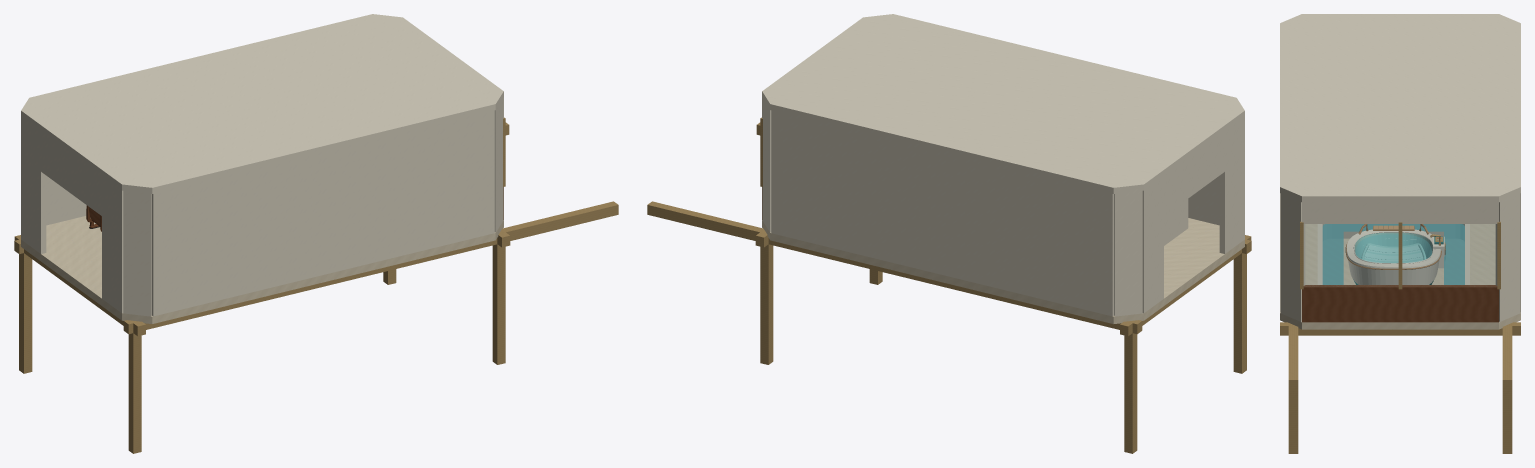
Rendered from D04_PORT_AFT_HOME_900_r001.glb.
The picture shows the model from 3 angles, left to right: view 1: azimuth 30°, elevation 25°; view 2: azimuth 150°, elevation 25°; view 3: azimuth 270°, elevation 25°; orthographic projection. The views are drawn at different scales.
Parts seen in each view (by area): view 1: PA900_D04SH895_Roof, PA900_D04SH895_Shell_7, PA900_D04SH895_Floor, PA900_D04SH895_FloorCross_0, PA900_D04SH895_Shell_0, PA900_D04SH895_EntryWall_1, PA900_D04SH895_EntryWall_0, PA900_D04SH895_EntryHeader, PA900_D04SH895_Pier_5, PA900_D04SH895_Pier_7, PA900_D04SH895_Pier_6, PA900_D04SH895_Shell_3 (+2 smaller); view 2: PA900_D04SH895_Roof, PA900_D04SH895_Shell_3, PA900_D04SH895_Floor, PA900_D04SH895_FloorCross_1, PA900_D04SH895_Shell_2, PA900_D04SH895_EntryWall_0, PA900_D04SH895_EntryWall_1, PA900_D04SH895_EntryHeader, PA900_D04SH895_Pier_6, PA900_D04SH895_Pier_8, PA900_D04SH895_Pier_5, PA900_D04SH895_Shell_4 (+3 smaller); view 3: PA900_D04SH895_Roof, PA900_D04SH895_GardenGlass, PA900_D04SH895_GardenDado, PA900_D04SH895_Floor, PA900_D04SH895_GardenHead, PA900_ReservedAquaticRest__Hollow continuous basin shell wit, PA900_D04SH895_Water_0, PA900_D04SH895_Shell_4, PA900_D04SH895_Shell_6, PA900_ReservedAquaticRest__WaterSurface_VisualOnly, PA900_D04SH895_Long_-29.35, PA900_ReservedAquaticRest__Contoured broad immersed rest sup (+9 smaller).
Part boxes in pixels (bbox=[...]): PA900_D04SH895_Roof: bbox=[21, 14, 503, 193]; PA900_D04SH895_Shell_7: bbox=[152, 110, 494, 316]; PA900_D04SH895_Floor: bbox=[21, 216, 503, 323]; PA900_D04SH895_FloorCross_0: bbox=[123, 201, 618, 334]; PA900_D04SH895_Shell_0: bbox=[123, 191, 151, 316]; PA900_D04SH895_EntryWall_1: bbox=[21, 117, 46, 253]; PA900_D04SH895_EntryWall_0: bbox=[102, 176, 123, 313]; PA900_D04SH895_EntryHeader: bbox=[41, 131, 101, 215]; PA900_D04SH895_Pier_5: bbox=[128, 320, 141, 453]; PA900_D04SH895_Pier_7: bbox=[492, 230, 505, 364]; PA900_D04SH895_Pier_6: bbox=[19, 239, 32, 373]; PA900_D04SH895_Shell_3: bbox=[46, 176, 86, 225]; PA900_D04SH895_Roof: bbox=[762, 14, 1244, 193]; PA900_D04SH895_Shell_3: bbox=[771, 110, 1113, 316]; PA900_D04SH895_Floor: bbox=[762, 218, 1244, 323]; PA900_D04SH895_FloorCross_1: bbox=[647, 201, 1142, 334]; PA900_D04SH895_Shell_2: bbox=[1114, 191, 1142, 316]; PA900_D04SH895_EntryWall_0: bbox=[1219, 117, 1244, 253]; PA900_D04SH895_EntryWall_1: bbox=[1142, 176, 1163, 313]; PA900_D04SH895_EntryHeader: bbox=[1164, 131, 1224, 215]; PA900_D04SH895_Pier_6: bbox=[1124, 320, 1137, 453]; PA900_D04SH895_Pier_8: bbox=[760, 230, 773, 364]; PA900_D04SH895_Pier_5: bbox=[1233, 239, 1246, 373]; PA900_D04SH895_Shell_4: bbox=[762, 98, 771, 232]; PA900_D04SH895_Roof: bbox=[1280, 14, 1520, 202]; PA900_D04SH895_GardenGlass: bbox=[1304, 224, 1495, 286]; PA900_D04SH895_GardenDado: bbox=[1302, 285, 1498, 322]; PA900_D04SH895_Floor: bbox=[1280, 224, 1520, 329]; PA900_D04SH895_GardenHead: bbox=[1302, 202, 1498, 223]; PA900_ReservedAquaticRest__Hollow continuous basin shell wit: bbox=[1346, 229, 1440, 284]; PA900_D04SH895_Water_0: bbox=[1322, 224, 1464, 284]; PA900_D04SH895_Shell_4: bbox=[1495, 193, 1519, 321]; PA900_D04SH895_Shell_6: bbox=[1281, 193, 1305, 321]; PA900_ReservedAquaticRest__WaterSurface_VisualOnly: bbox=[1356, 234, 1431, 262]; PA900_D04SH895_Long_-29.35: bbox=[1280, 322, 1520, 335]; PA900_ReservedAquaticRest__Contoured broad immersed rest sup: bbox=[1364, 243, 1423, 263].
Size of the model in its own units: 16.55 by 8.58 by 7.2.
Materials: 40 (21 with a texture image).
